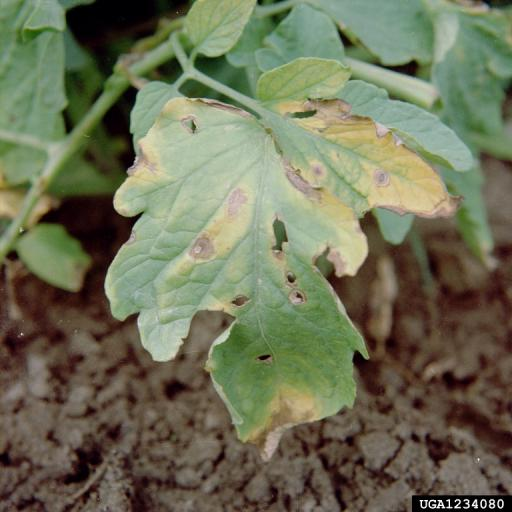Early Blight: (102, 80, 460, 441)
